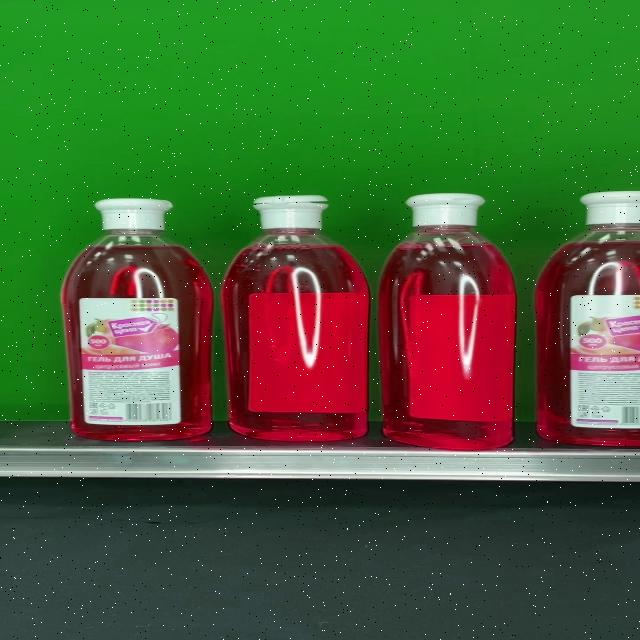Bottle: (60, 198, 212, 440), (222, 194, 370, 440), (378, 193, 516, 450)
Cap: (406, 194, 488, 226), (251, 195, 327, 229), (95, 198, 173, 230)
